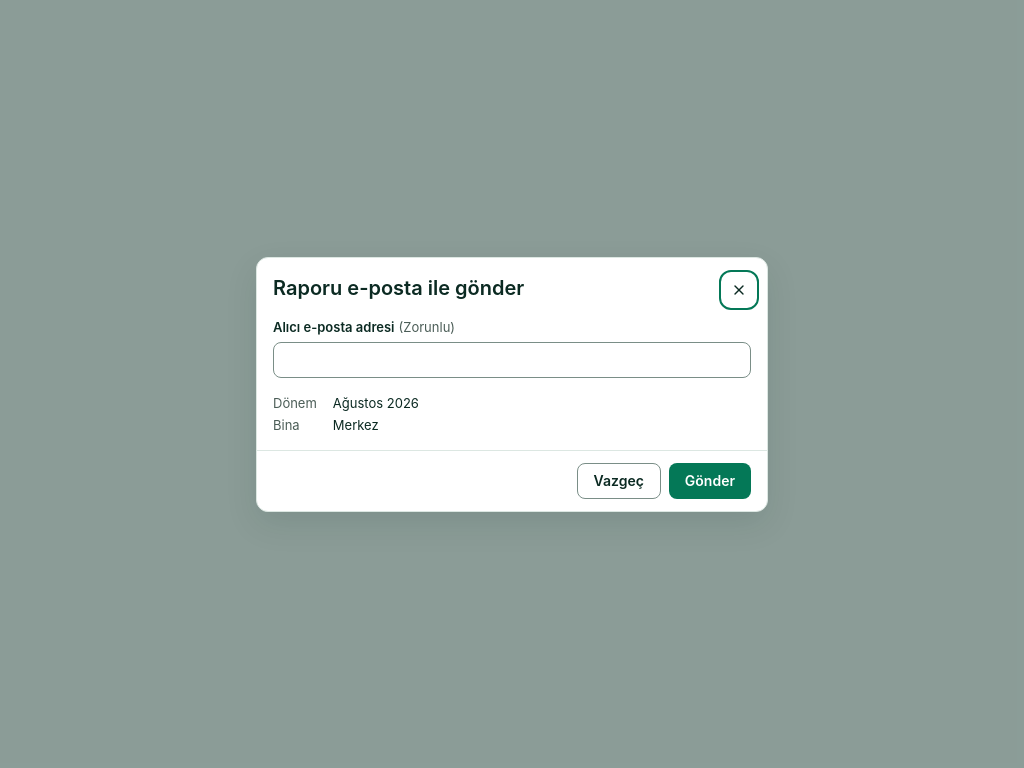
Test: EmailDialog › refuses an address without an @ next to the field
Type "yonetici" into the field labelled "Alıcı e-posta adresi(Zorunlu)" at (512, 360), box x1=273 y1=342 x2=751 y2=378
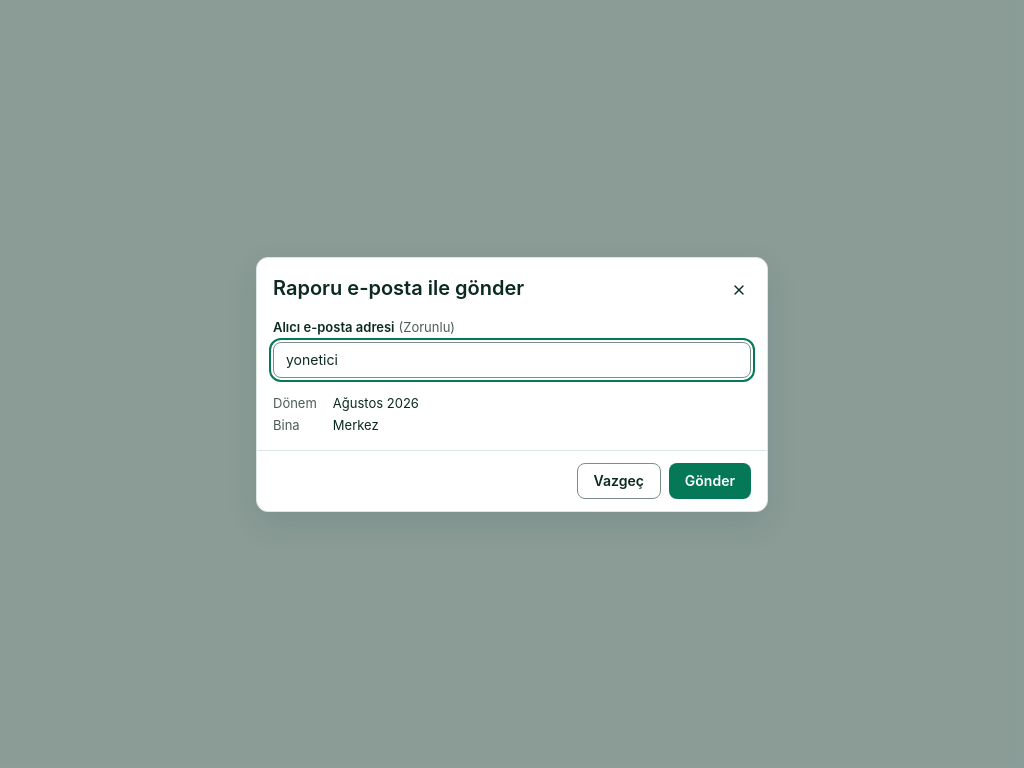
Click the button "Gönder" at (710, 480), box x1=669 y1=462 x2=751 y2=498
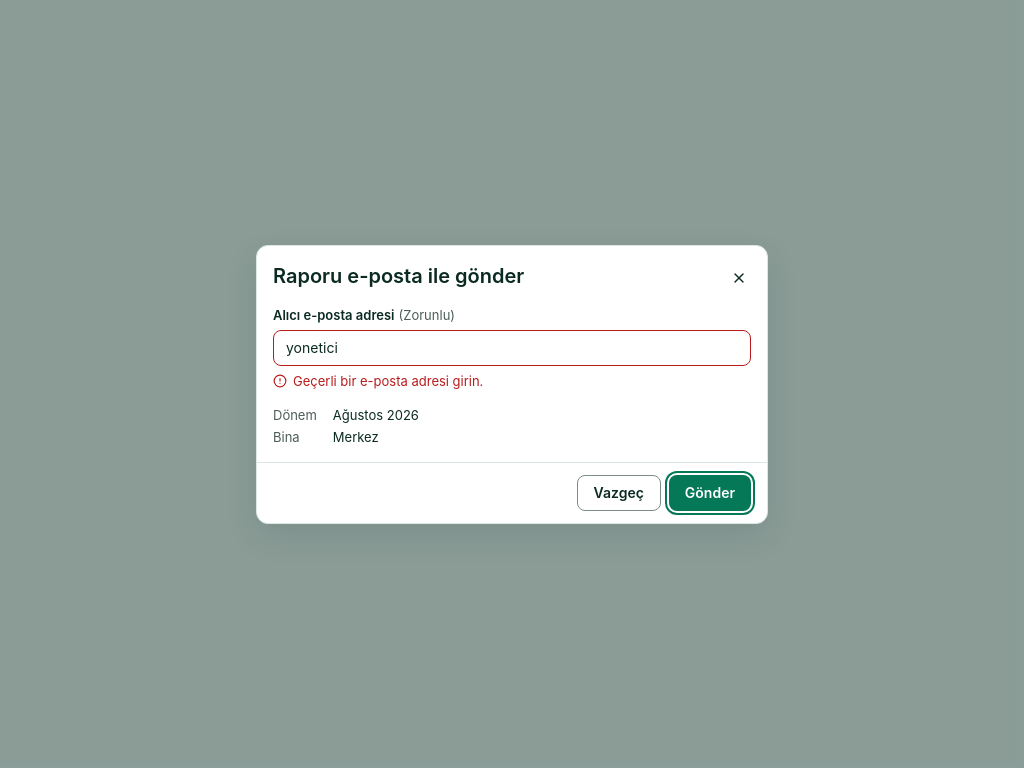
Result: the text "Geçerli bir e-posta adresi girin." is shown at x1=293 y1=372 x2=483 y2=390
